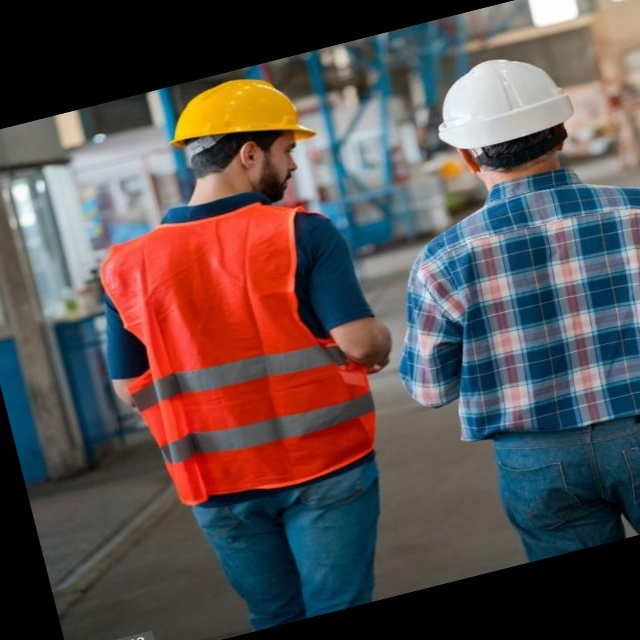Con_Casco: (424, 40, 594, 201), (161, 64, 329, 214)
Con_Chaleco: (86, 180, 394, 516)
Sin_Chaleco: (408, 158, 640, 457)
